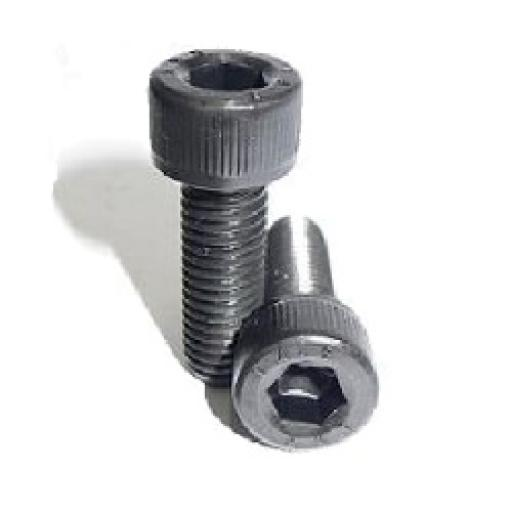Hex-Allen: (232, 299, 378, 452)
